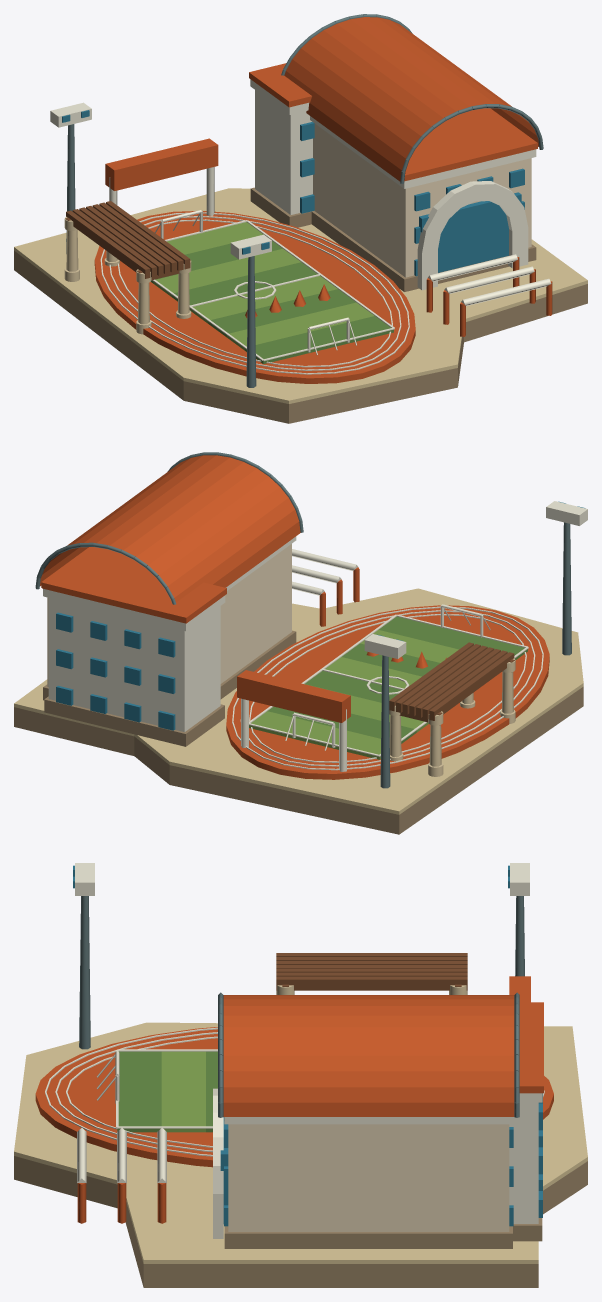
Rendered from training-center-lv3.glb.
The picture shows the model from 3 angles, top to bottom: view 1: azimuth 30°, elevation 25°; view 2: azimuth 150°, elevation 25°; view 3: azimuth 270°, elevation 25°; orthographic projection. The views are drawn at different scales.
Visible parts, largest first — view 1: gym_barrel_roof_orange, foundation_sand, running_track_orange, foundation_stoneDark, training_hall_cream, pitch_grassLight, pitch_grass, performance_block_white, training_hall_roof_orange, coaching_shelter_wood, gym_front_arch_white, gym_front_glass (+17 smaller); view 2: gym_barrel_roof_orange, foundation_sand, running_track_orange, performance_block_white, foundation_stoneDark, training_hall_cream, performance_block_roof_orange, pitch_grass, pitch_grassLight, coaching_shelter_wood, running_lanes_white, performance_block_windows_glass (+13 smaller); view 3: gym_barrel_roof_orange, training_hall_cream, foundation_sand, foundation_stoneDark, running_track_orange, coaching_shelter_wood, training_hall_stoneDark, pitch_grass, pitch_grassLight, performance_block_white, running_lanes_white, lighting_iron (+11 smaller).
Part boxes in pixels (x1,y1,x2,y2): gym_barrel_roof_orange: (284,17,539,181); foundation_sand: (14,188,587,403); running_track_orange: (94,211,415,383); foundation_stoneDark: (14,250,587,423); training_hall_cream: (313,124,531,277); pitch_grassLight: (153,222,374,350); pitch_grass: (151,241,393,364); performance_block_white: (250,79,312,214); training_hall_roof_orange: (404,108,537,181); coaching_shelter_wood: (65,201,190,280); gym_front_arch_white: (417,181,528,290); gym_front_glass: (419,192,521,272); gym_barrel_roof_orange: (40,455,300,602); foundation_sand: (14,588,583,814); running_track_orange: (226,605,549,779); performance_block_white: (44,589,225,731); foundation_stoneDark: (14,686,583,834); training_hall_cream: (47,544,291,686); performance_block_roof_orange: (42,553,226,623); pitch_grass: (267,616,527,743); pitch_grassLight: (249,630,458,759); coaching_shelter_wood: (389,642,514,722); running_lanes_white: (232,606,543,770); performance_block_windows_glass: (56,612,175,730); gym_barrel_roof_orange: (223,995,514,1116); training_hall_cream: (228,1124,509,1231); foundation_sand: (14,1022,587,1263); foundation_stoneDark: (14,1156,587,1287); running_track_orange: (35,1027,553,1167); coaching_shelter_wood: (276,953,467,990); training_hall_stoneDark: (224,1226,512,1248); pitch_grass: (117,1051,217,1132); pitch_grassLight: (161,1051,205,1132); performance_block_white: (509,1093,542,1223); running_lanes_white: (45,1027,544,1156); lighting_iron: (79,896,524,1049).
Bounding box in the file's own units: 0.9785 × 0.4511 × 1.
